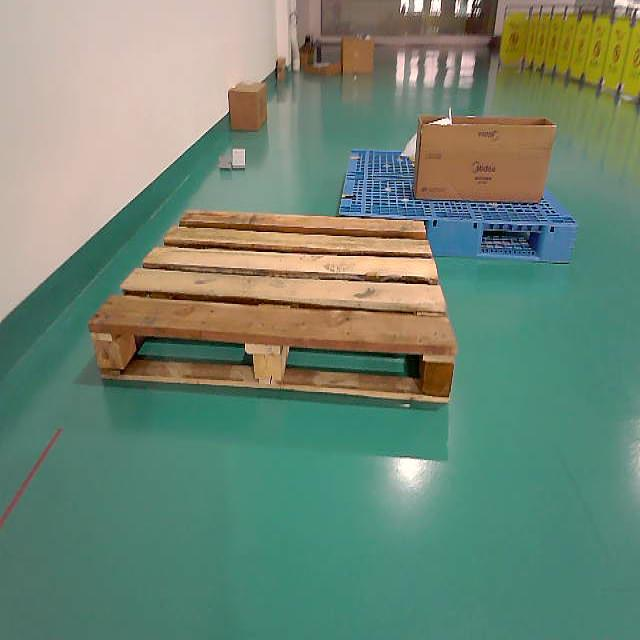euro: (90, 211, 455, 405)
